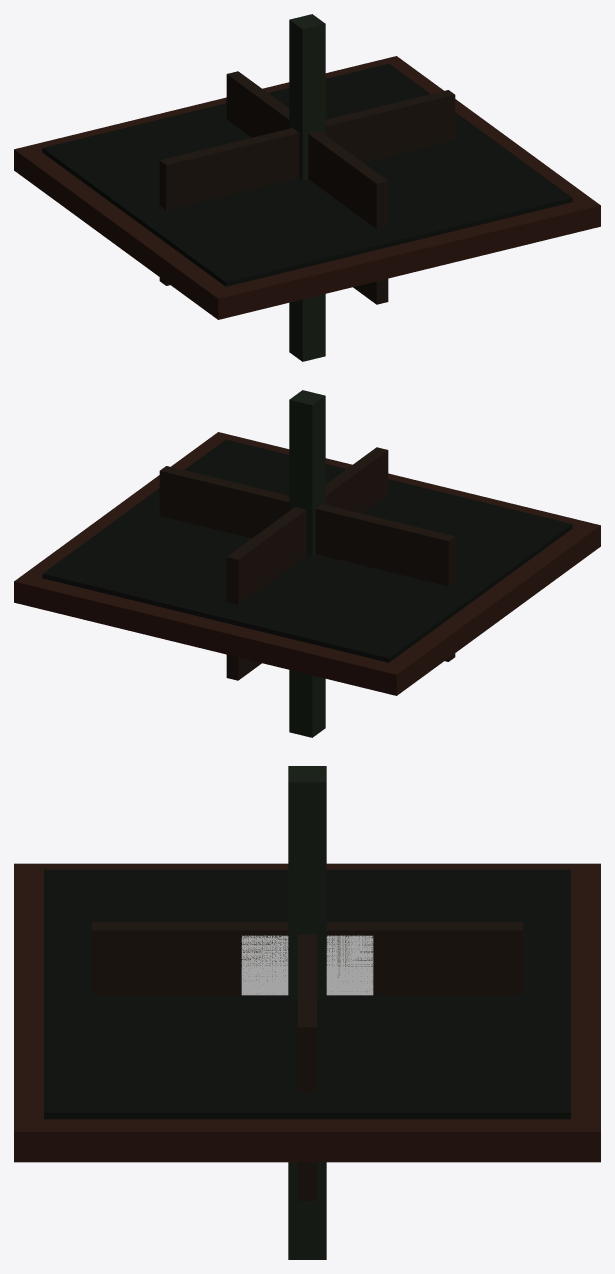
File: prop_checkpoint_guard_booth.obj
3 views of the same model, one above another, from view 1: azimuth 30°, elevation 25°; view 2: azimuth 150°, elevation 25°; view 3: azimuth 270°, elevation 25° (orthographic). The views are drawn at different scales.
Parts seen in each view (by area): view 1: prop_checkpoint_guard_booth_DA_0000, prop_checkpoint_guard_booth_DA_0013, prop_checkpoint_guard_booth_DA_0005, prop_checkpoint_guard_booth_DA_0006, prop_checkpoint_guard_booth_DA_0001, prop_checkpoint_guard_booth_DA_0008; view 2: prop_checkpoint_guard_booth_DA_0000, prop_checkpoint_guard_booth_DA_0013, prop_checkpoint_guard_booth_DA_0005, prop_checkpoint_guard_booth_DA_0006, prop_checkpoint_guard_booth_DA_0001, prop_checkpoint_guard_booth_DA_0008; view 3: prop_checkpoint_guard_booth_DA_0000, prop_checkpoint_guard_booth_DA_0013, prop_checkpoint_guard_booth_DA_0006, prop_checkpoint_guard_booth_DA_0001, prop_checkpoint_guard_booth_DA_0015, prop_checkpoint_guard_booth_DA_0005, prop_checkpoint_guard_booth_DA_0008.
Boxes of the visible parts, box(x1,y1,x2,y2) form: prop_checkpoint_guard_booth_DA_0000: box(42, 63, 572, 286); prop_checkpoint_guard_booth_DA_0013: box(14, 56, 600, 319); prop_checkpoint_guard_booth_DA_0005: box(159, 90, 455, 285); prop_checkpoint_guard_booth_DA_0006: box(226, 71, 388, 304); prop_checkpoint_guard_booth_DA_0001: box(289, 14, 325, 361); prop_checkpoint_guard_booth_DA_0008: box(239, 109, 375, 190); prop_checkpoint_guard_booth_DA_0000: box(42, 439, 572, 662); prop_checkpoint_guard_booth_DA_0013: box(14, 432, 600, 695); prop_checkpoint_guard_booth_DA_0005: box(159, 466, 455, 661); prop_checkpoint_guard_booth_DA_0006: box(226, 447, 388, 680); prop_checkpoint_guard_booth_DA_0001: box(289, 390, 325, 737); prop_checkpoint_guard_booth_DA_0008: box(239, 485, 375, 566); prop_checkpoint_guard_booth_DA_0000: box(44, 869, 570, 1119); prop_checkpoint_guard_booth_DA_0013: box(14, 863, 600, 1162); prop_checkpoint_guard_booth_DA_0006: box(92, 922, 522, 995); prop_checkpoint_guard_booth_DA_0001: box(288, 766, 326, 1259); prop_checkpoint_guard_booth_DA_0015: box(241, 935, 373, 995); prop_checkpoint_guard_booth_DA_0005: box(298, 936, 316, 1200); prop_checkpoint_guard_booth_DA_0008: box(298, 934, 316, 971).
Bounding box in the file's own units: 2.65 × 2.2 × 2.45.
